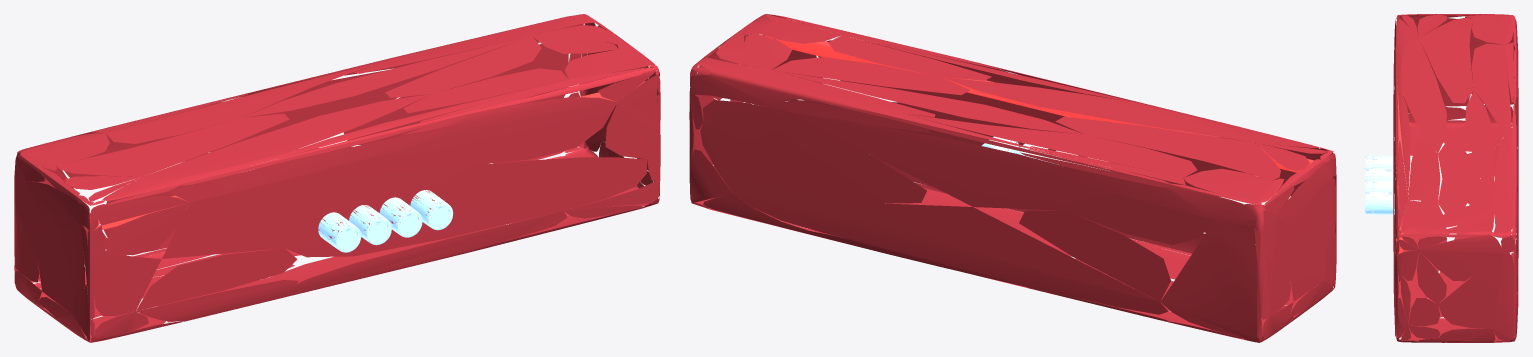
The model's file is hypercar_rear_bumper.glb.
3 views of the same model, side by side, from view 1: azimuth 30°, elevation 25°; view 2: azimuth 150°, elevation 25°; view 3: azimuth 270°, elevation 25° (orthographic). The views are drawn at different scales.
Parts seen in each view (by area): view 1: Hypercar_Rear_Bumper; view 2: Hypercar_Rear_Bumper; view 3: Hypercar_Rear_Bumper.
Boxes of the visible parts, x1,y1,x2,y2 form: Hypercar_Rear_Bumper: (14, 14, 660, 342); Hypercar_Rear_Bumper: (689, 14, 1336, 342); Hypercar_Rear_Bumper: (1365, 14, 1518, 342).
Size of the model in its own units: 1.5 by 0.3593 by 0.4396.
